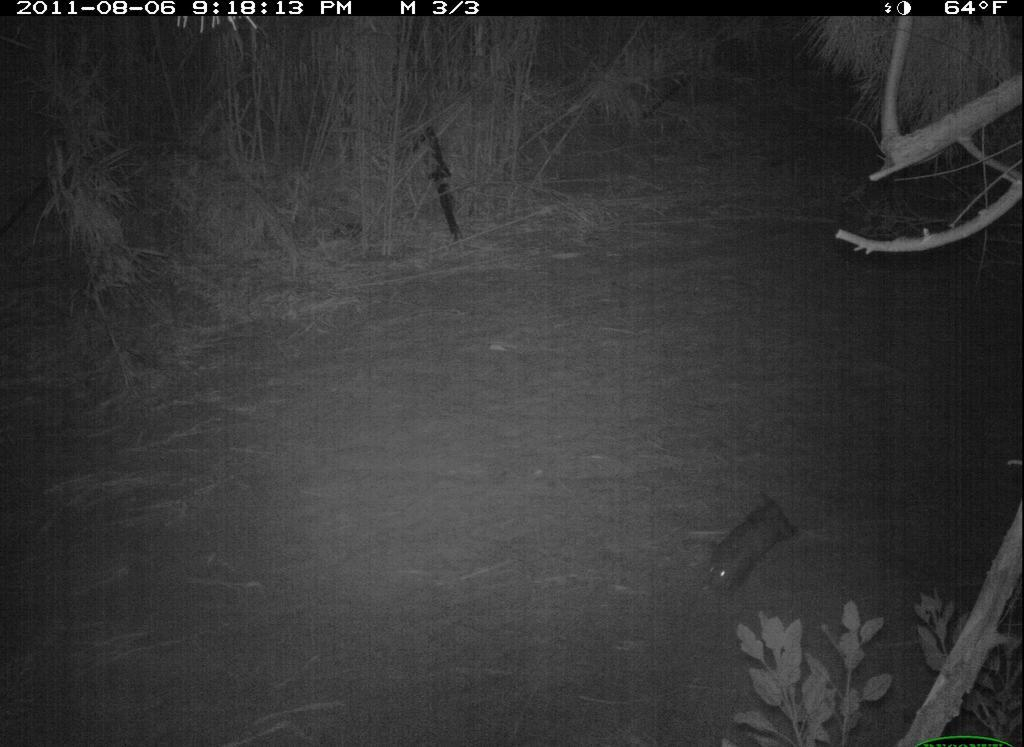opossum: (699, 493, 812, 607)
